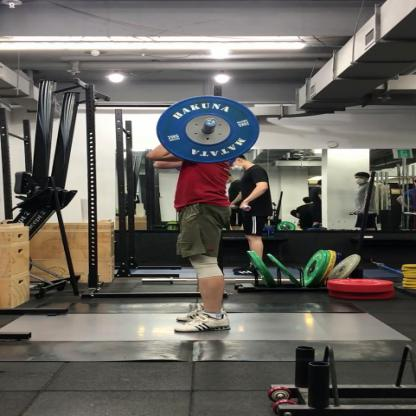Barbell: (149, 91, 268, 167)
